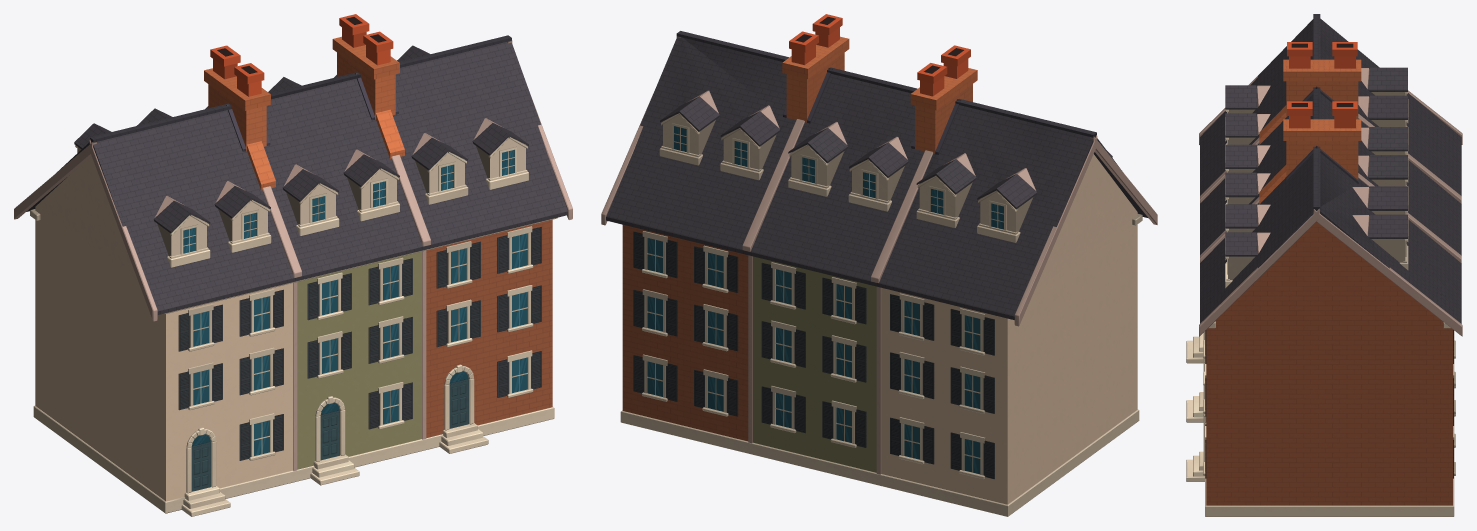
File: houdini_row_houses.glb
3 views of the same model, side by side, from view 1: azimuth 30°, elevation 25°; view 2: azimuth 150°, elevation 25°; view 3: azimuth 270°, elevation 25° (orthographic). The views are drawn at different scales.
Parts seen in each view (by area): view 1: LOD0; view 2: LOD0; view 3: LOD0.
Part boxes in pixels (<box>): LOD0: <box>14,14,572,516</box>; LOD0: <box>601,14,1157,516</box>; LOD0: <box>1186,14,1462,516</box>.
Size of what is drawn, in the model's own units: 21.18 by 18.05 by 12.76.
Materials: 6 (6 with a texture image).
